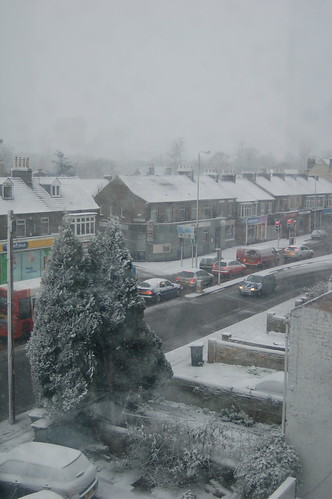building: (1, 168, 102, 304), (115, 163, 238, 263), (208, 172, 276, 241), (270, 164, 332, 233)
sky: (1, 1, 332, 161)
tree: (35, 217, 156, 429)
